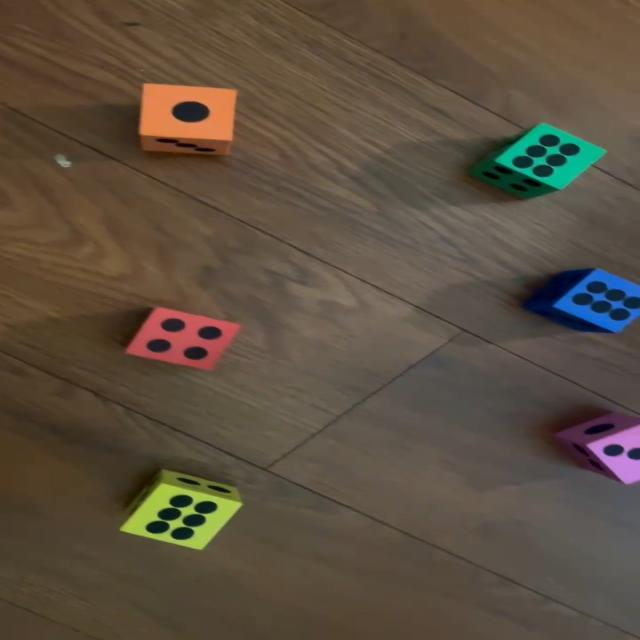blue_block: (525, 268, 640, 335)
red_block: (126, 307, 241, 370)
